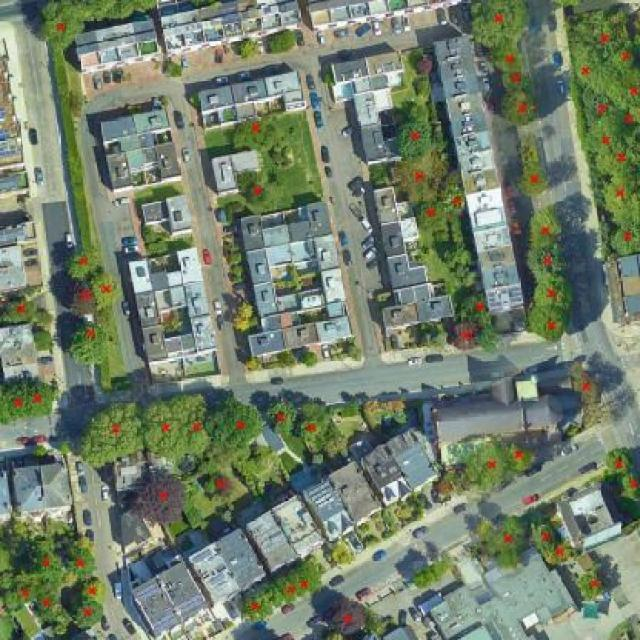tree: (68, 397, 147, 469), (117, 462, 198, 529), (560, 0, 634, 63), (22, 0, 93, 57), (458, 0, 534, 51), (386, 148, 448, 204), (563, 39, 620, 99), (209, 396, 269, 453), (473, 512, 530, 570), (137, 394, 183, 465), (457, 437, 512, 492), (62, 318, 116, 372), (180, 388, 218, 460), (55, 0, 163, 25), (562, 352, 608, 410), (298, 391, 337, 458), (321, 595, 378, 640), (587, 167, 640, 215), (577, 111, 628, 160), (520, 304, 577, 347), (574, 82, 623, 131), (589, 134, 640, 181), (390, 117, 438, 166), (526, 272, 583, 312), (492, 89, 545, 131), (519, 206, 570, 248), (261, 387, 299, 442), (511, 154, 555, 200), (227, 115, 281, 151), (521, 245, 574, 280), (62, 276, 101, 322), (0, 511, 35, 562), (604, 215, 640, 264), (0, 373, 32, 428), (68, 596, 110, 636), (444, 318, 488, 356), (0, 578, 46, 614), (86, 270, 125, 312), (598, 438, 637, 480), (60, 548, 106, 583), (603, 39, 640, 81), (533, 542, 585, 570), (26, 546, 65, 583), (409, 196, 448, 233), (487, 45, 533, 76), (28, 377, 61, 420), (504, 437, 541, 475), (0, 294, 40, 328), (29, 586, 69, 619), (437, 244, 478, 275), (76, 574, 112, 609), (573, 569, 610, 603), (260, 27, 303, 56), (236, 591, 276, 622), (68, 246, 102, 282), (473, 322, 505, 359), (272, 573, 303, 610), (401, 96, 438, 127), (296, 562, 329, 595), (612, 68, 639, 108), (496, 68, 536, 95), (444, 183, 473, 220), (25, 326, 59, 357), (205, 473, 239, 504), (459, 289, 495, 316), (615, 100, 640, 135), (432, 545, 457, 580), (229, 38, 265, 62), (531, 522, 563, 549), (48, 605, 74, 638), (409, 568, 440, 595), (618, 472, 640, 509), (156, 58, 187, 84), (241, 182, 270, 208), (412, 53, 441, 79), (407, 75, 435, 99), (0, 561, 20, 594), (233, 301, 259, 322), (540, 0, 589, 11), (300, 349, 323, 372)
